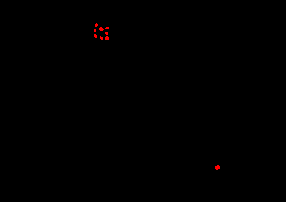Target: (215, 165, 220, 170), (99, 27, 104, 31), (105, 36, 109, 40), (95, 23, 98, 27), (94, 34, 97, 38), (100, 36, 103, 40), (105, 32, 108, 35), (105, 27, 109, 29), (94, 29, 96, 32)
